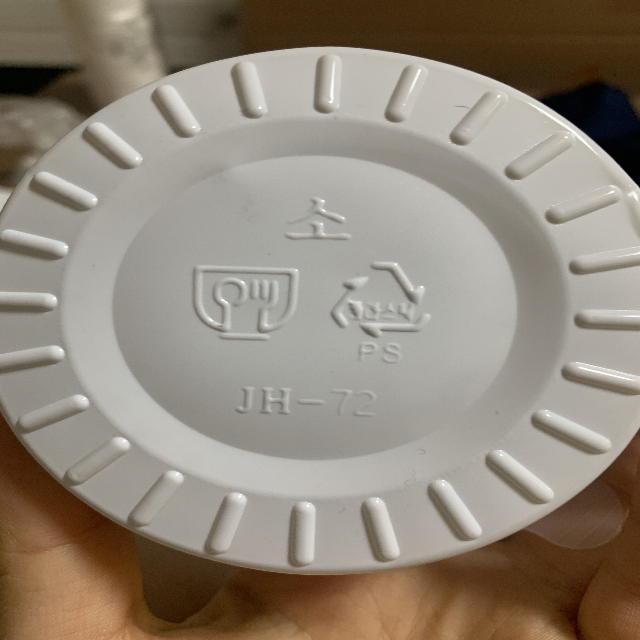ps: (329, 257, 431, 368)
